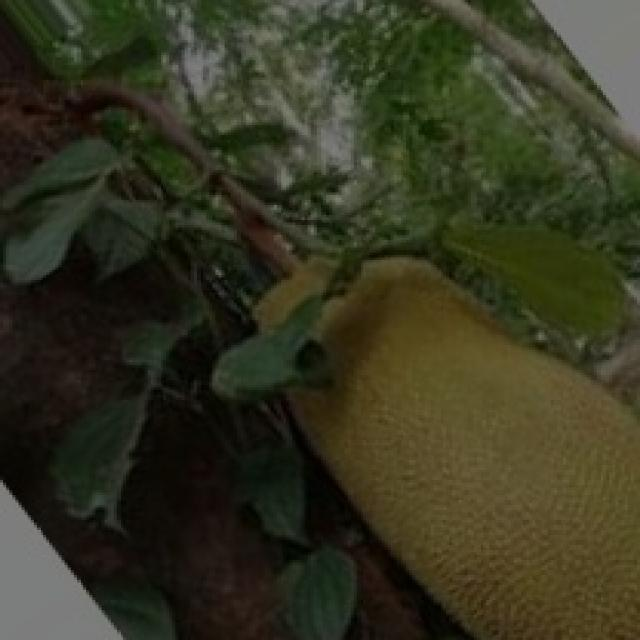Fruit: (255, 222, 640, 640)
